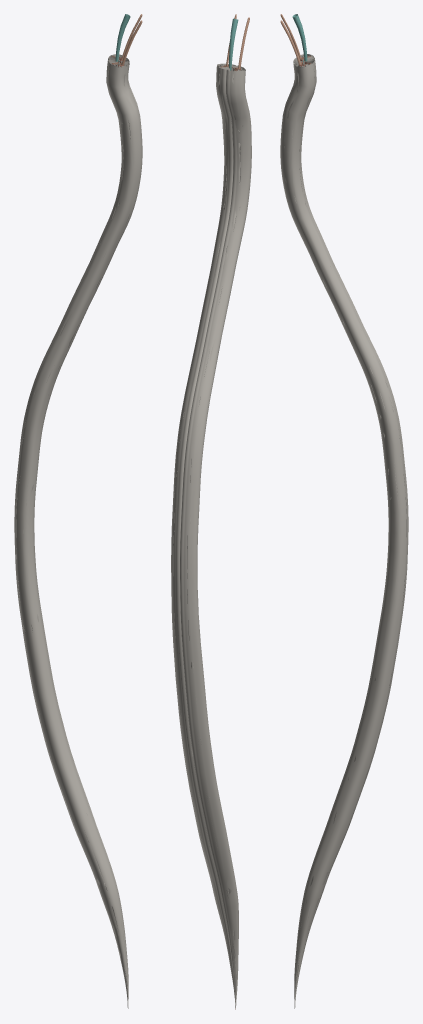
File: nerves-back.glb
3 renders of one model, left to right at view 1: azimuth 90°, elevation 25°; view 2: azimuth 150°, elevation 25°; view 3: azimuth 270°, elevation 25°, orthographic.
Visible parts, largest first — view 1: nerve-white-matter-of-spinal-cord, nerve-anterior-spinocerebellar-tract, nerve-posterior-spinocerebellar-tract; view 2: nerve-white-matter-of-spinal-cord, nerve-posterolateral-tract, nerve-posterior-spinocerebellar-tract, nerve-anterior-spinocerebellar-tract, nerve-cuneate-fasciculus, nerve-gracile-fasciculus, nerve-central-canal-2; view 3: nerve-white-matter-of-spinal-cord, nerve-anterior-spinocerebellar-tract, nerve-posterior-spinocerebellar-tract.
Part boxes in pixels (box(x1,y1,x2,y2)): nerve-white-matter-of-spinal-cord: box(14, 58, 142, 1006); nerve-anterior-spinocerebellar-tract: box(25, 54, 135, 1008); nerve-posterior-spinocerebellar-tract: box(19, 54, 127, 1006); nerve-white-matter-of-spinal-cord: box(171, 64, 251, 1007); nerve-posterolateral-tract: box(172, 67, 240, 1006); nerve-posterior-spinocerebellar-tract: box(171, 64, 243, 1002); nerve-anterior-spinocerebellar-tract: box(197, 63, 251, 998); nerve-cuneate-fasciculus: box(216, 67, 240, 268); nerve-gracile-fasciculus: box(178, 67, 235, 1004); nerve-central-canal-2: box(229, 18, 238, 70); nerve-white-matter-of-spinal-cord: box(280, 57, 408, 999); nerve-anterior-spinocerebellar-tract: box(284, 54, 397, 1008); nerve-posterior-spinocerebellar-tract: box(295, 54, 403, 1006).
Bounding box in the file's own units: 0.0147 × 0.5134 × 0.0599.
